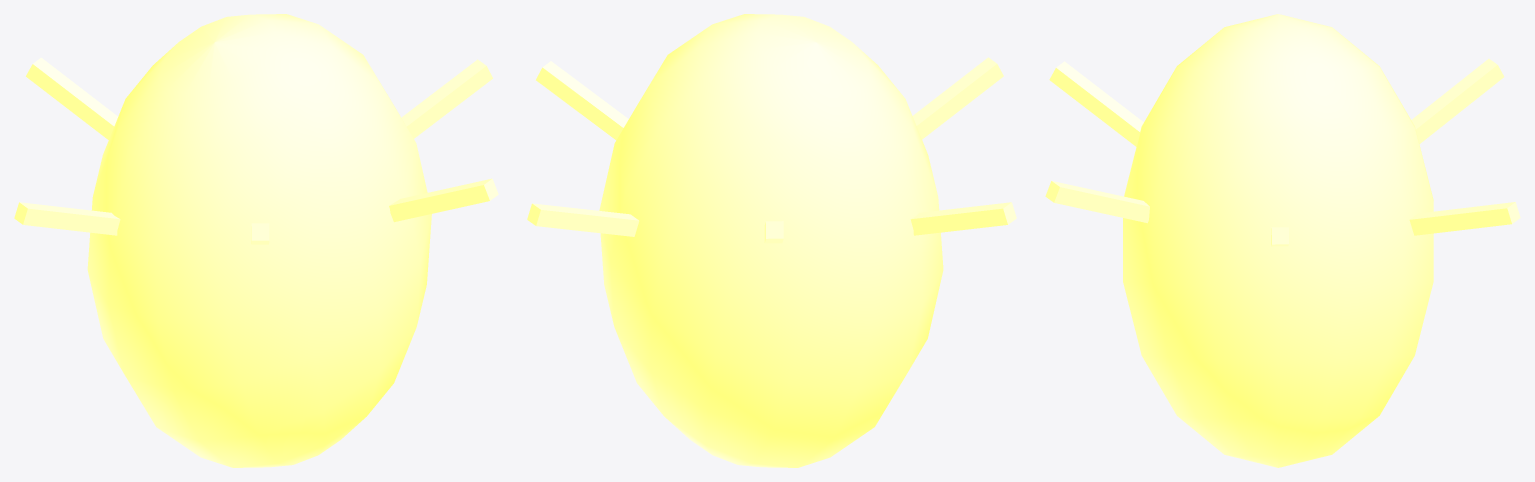
File: fruit-mango-shocked.gltf
3 renders of one model, left to right at view 1: azimuth 30°, elevation 25°; view 2: azimuth 150°, elevation 25°; view 3: azimuth 270°, elevation 25°, orthographic.
Size of the model in its own units: 0.5939 by 0.5274 by 0.5288.
